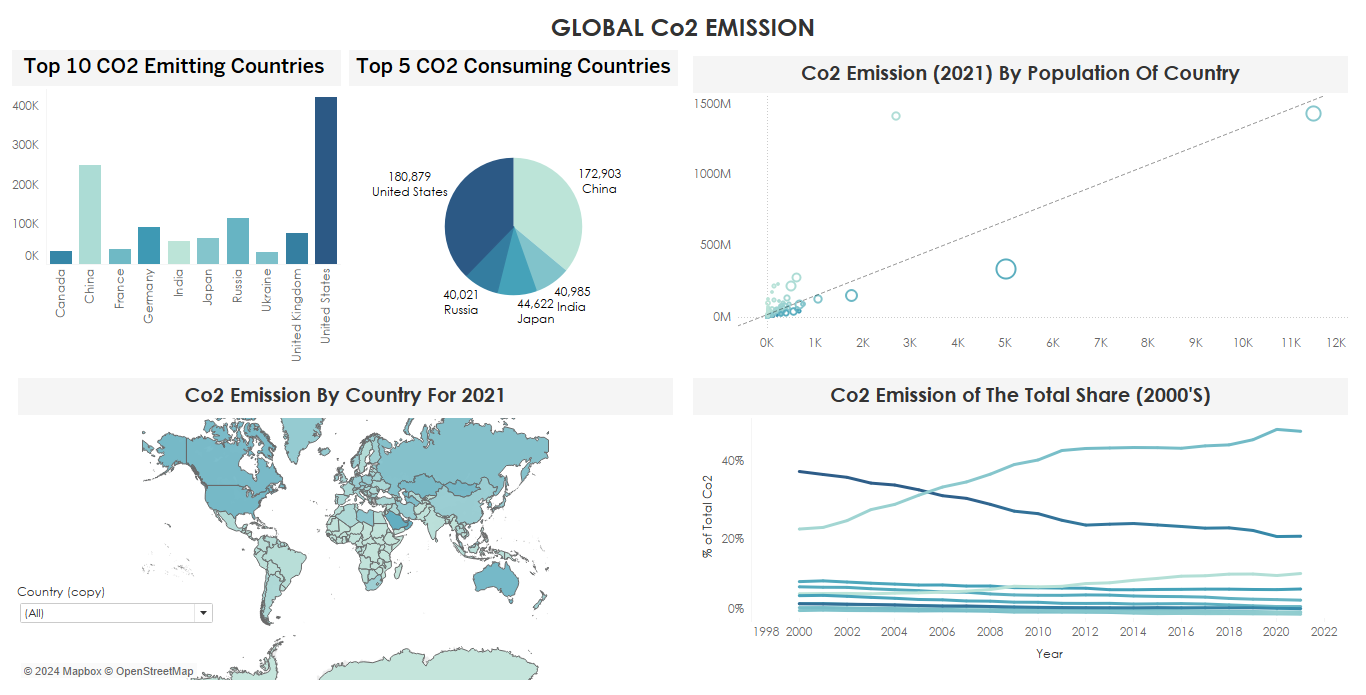

The dashboard page shown, as its layout file describes it:
{"tool":"tableau","page":{"name":"Dashboard 2","canvas":[1000,1000],"units":"permille","ordinal":0},"visuals":[{"type":"title","box":[6.9,13.6,986.1,64.6]},{"type":"worksheet","title":"Top 10 CO2 Emitting Countries","mark":"Automatic","rows":["co2"],"cols":["country"],"box":[6.9,78.2,246.5,453.9]},{"type":"worksheet","title":"Top 5 CO2 Comsuming Countries Per Gdp (2)","mark":"Pie","box":[253.4,78.2,246.5,453.9]},{"type":"worksheet","title":"Co2 and population at country level","mark":"Automatic","rows":["population"],"cols":["co2"],"box":[499.9,78.2,493.2,453.9]},{"type":"worksheet","title":" Co2 Per Capita for the year 2021 ","mark":"Automatic","box":[6.9,532.2,493,454.2]},{"type":"worksheet","title":"% of total share of CO2 by year","mark":"Automatic","cols":["year"],"box":[500,532.2,493.1,454.2]},{"type":"filter","title":" Co2 Per Capita for the year 2021 ","param":"[federated.0828bae0plpdpk12uz1fn1k4nkpl].[none:Country (copy)_861032018268700672","box":[12.1,836.7,145.5,85]}]}

Visuals, with their boxes on the dashboard's canvas, which has no fixed pixel size, in thousandths of its width and height (x1, y1, x2, y2). These are canvas units, not pixel positions in the 1366x695 screenshot, which may show the page scaled, cropped or inside an application window:
title: l=7, t=14, r=993, b=78
"Top 10 CO2 Emitting Countries" worksheet: l=7, t=78, r=253, b=532
"Top 5 CO2 Comsuming Countries Per Gdp (2)" worksheet (Pie marks): l=253, t=78, r=500, b=532
"Co2 and population at country level" worksheet: l=500, t=78, r=993, b=532
" Co2 Per Capita for the year 2021 " worksheet: l=7, t=532, r=500, b=986
"% of total share of CO2 by year" worksheet: l=500, t=532, r=993, b=986
" Co2 Per Capita for the year 2021 " filter: l=12, t=837, r=158, b=922
